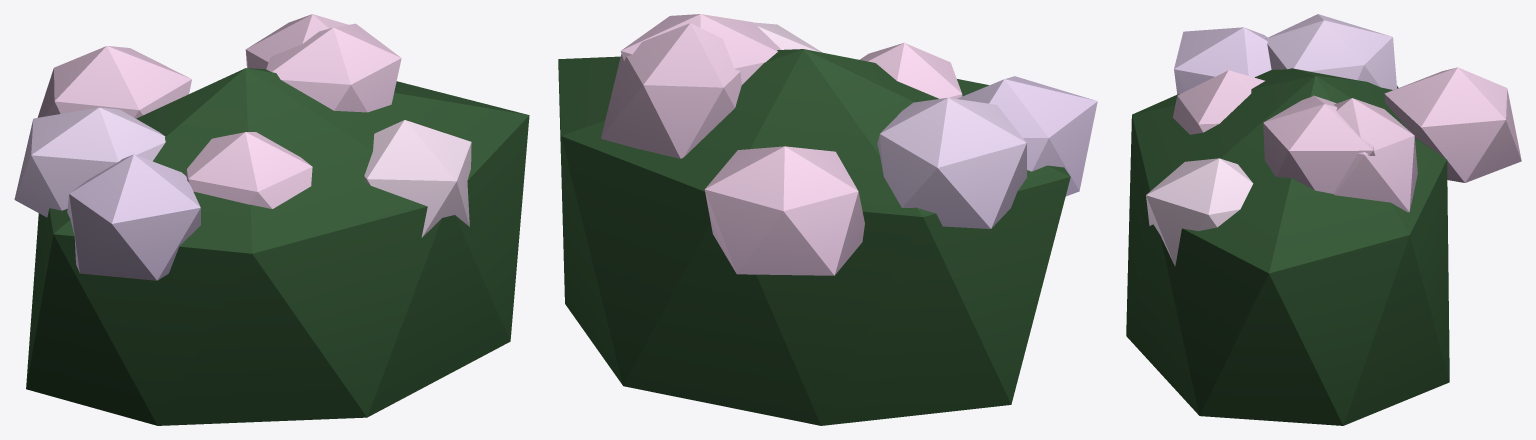
Rendered from hortensia.glb.
3 views of the same model, side by side, from view 1: azimuth 30°, elevation 25°; view 2: azimuth 150°, elevation 25°; view 3: azimuth 270°, elevation 25° (orthographic). The views are drawn at different scales.
Parts seen in each view (by area): view 1: Malha_0; view 2: Malha_0; view 3: Malha_0.
Part boxes in pixels (<box>): Malha_0: <box>14,14,529,425</box>; Malha_0: <box>558,14,1097,425</box>; Malha_0: <box>1126,14,1521,425</box>.
Size of the model in its own units: 1.15 by 0.8381 by 0.8974.
